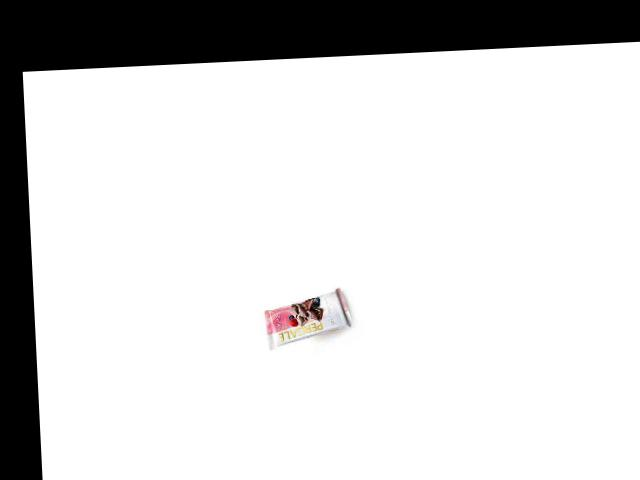chocolate: (263, 285, 349, 350)
